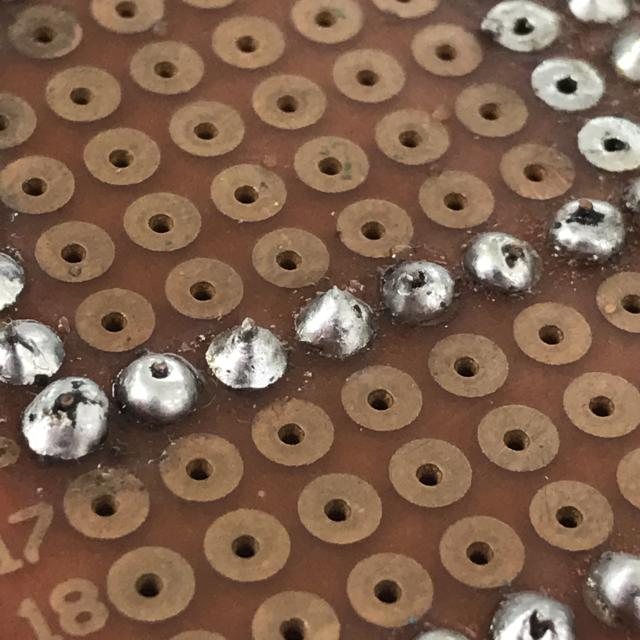good: (201, 315, 296, 402)
hole: (12, 373, 115, 468), (110, 347, 207, 435), (545, 192, 635, 276), (375, 252, 466, 335), (458, 227, 551, 305)
